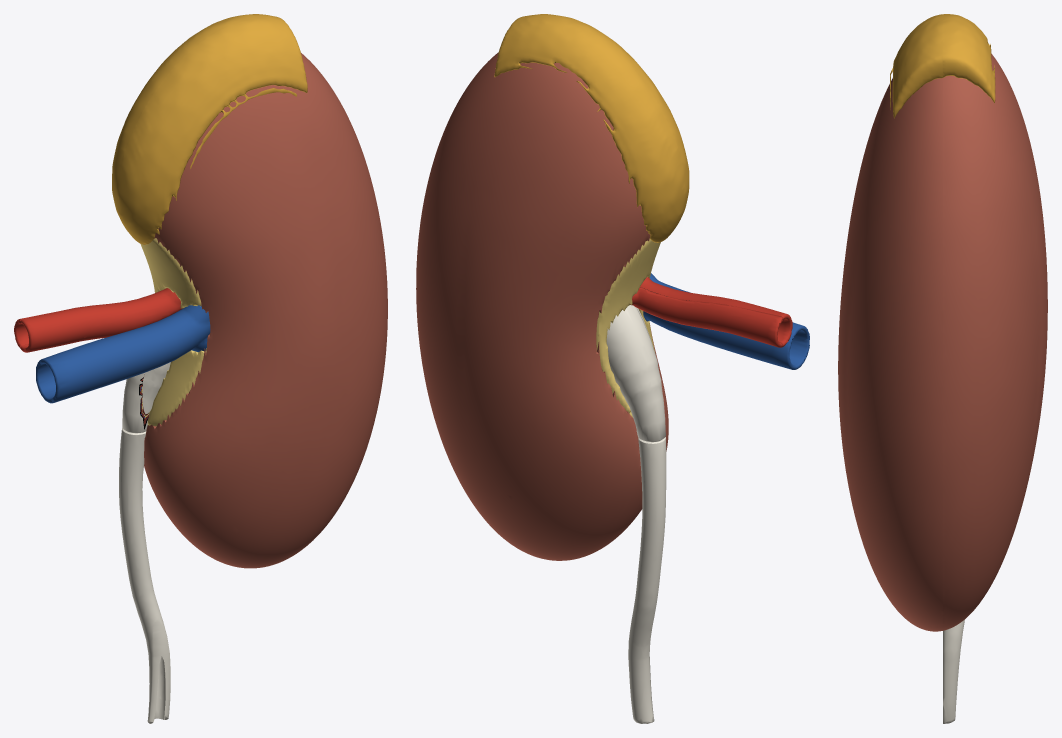
The model's file is kidney_staghorn_coronal.glb.
3 renders of one model, left to right at view 1: azimuth 30°, elevation 25°; view 2: azimuth 150°, elevation 25°; view 3: azimuth 270°, elevation 25°, orthographic. The views are drawn at different scales.
Parts seen in each view (by area): view 1: anterior_half, ureter, adrenal_gland, renal_pelvis; view 2: renal_cortex, adrenal_gland, anterior_half, ureter, renal_pelvis, renal_artery, renal_sinus; view 3: anterior_half, renal_cortex, adrenal_gland, ureter.
Boxes of the visible parts, left/top/right/bottom form: anterior_half: left=20, top=18, right=387, bottom=568; ureter: left=119, top=428, right=170, bottom=723; adrenal_gland: left=112, top=14, right=283, bottom=240; renal_pelvis: left=122, top=373, right=149, bottom=433; renal_cortex: left=416, top=52, right=650, bottom=560; adrenal_gland: left=494, top=15, right=684, bottom=242; anterior_half: left=522, top=14, right=809, bottom=550; ureter: left=628, top=437, right=666, bottom=723; renal_pelvis: left=606, top=305, right=665, bottom=442; renal_artery: left=630, top=287, right=783, bottom=347; renal_sinus: left=596, top=238, right=656, bottom=417; anterior_half: left=838, top=14, right=942, bottom=631; renal_cortex: left=943, top=53, right=1047, bottom=630; adrenal_gland: left=943, top=14, right=995, bottom=102; ureter: left=943, top=619, right=964, bottom=723.
Size of the model in its own units: 7.85 by 14.23 by 3.66.
1 material, 1 textured.
